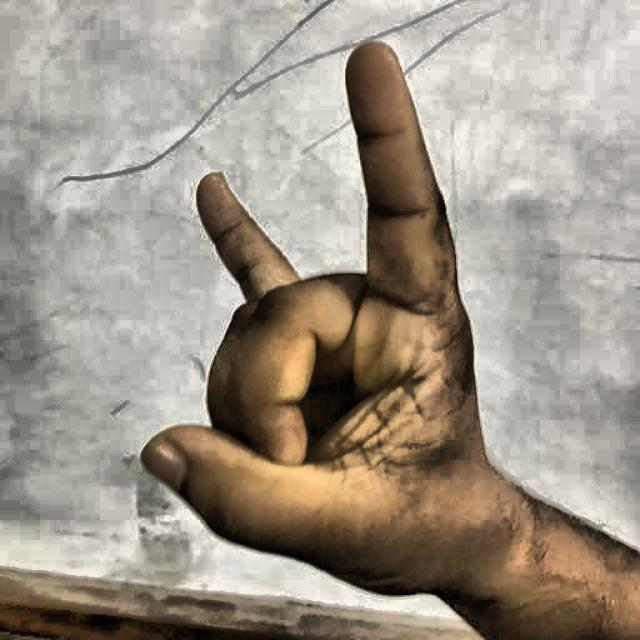Cha: (99, 25, 536, 640)
